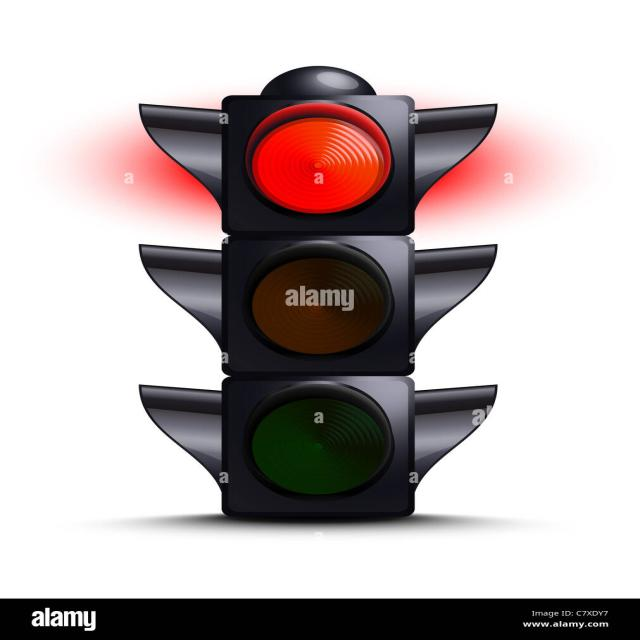red: (224, 97, 413, 216)
